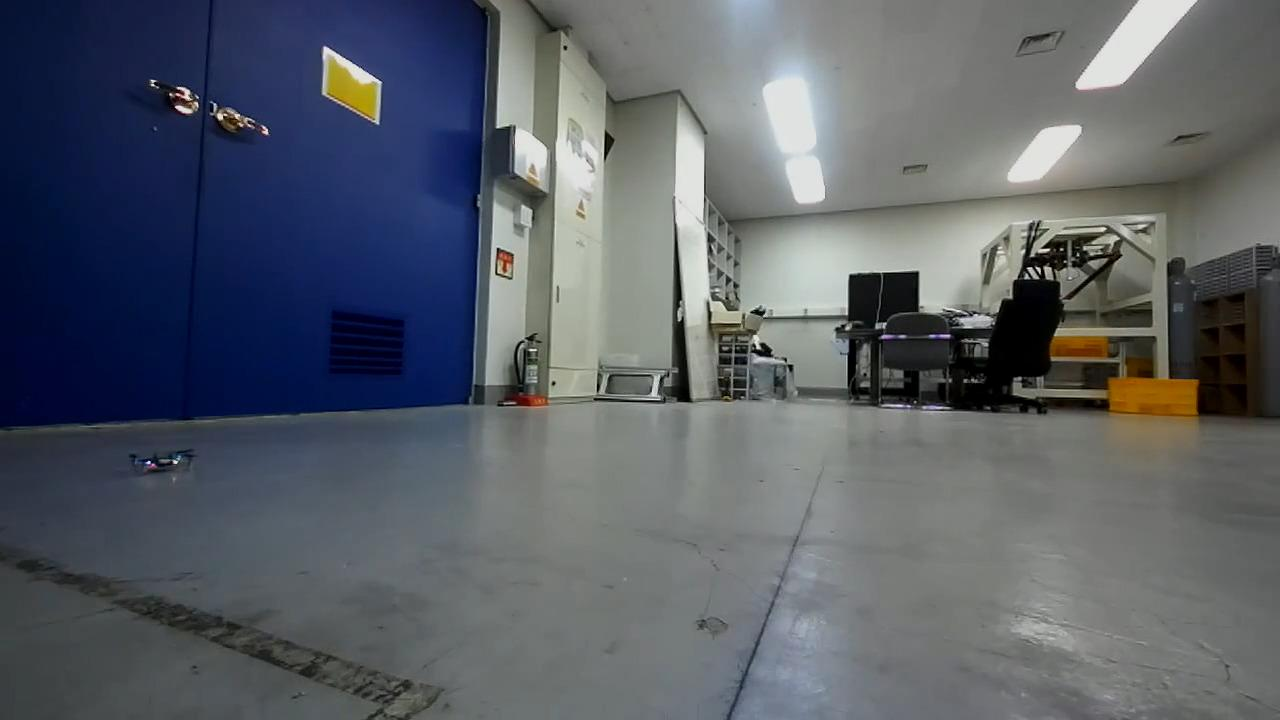crazyflie: (128, 444, 196, 477)
